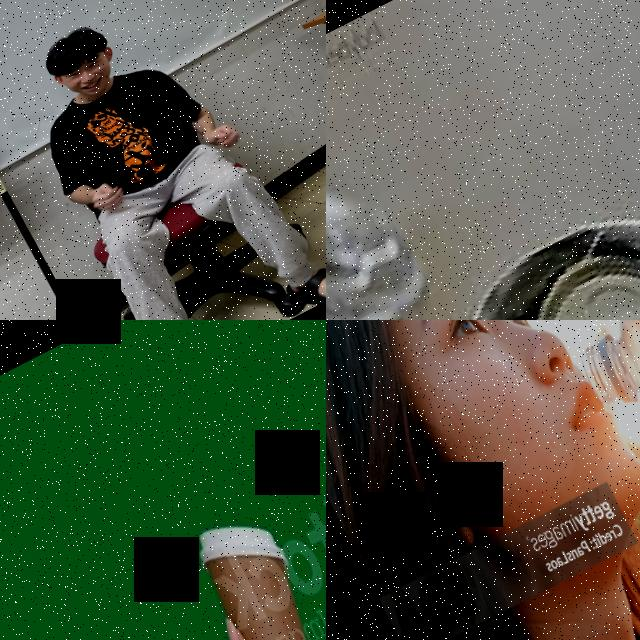can: (421, 173, 640, 320)
cup: (179, 503, 326, 640)
